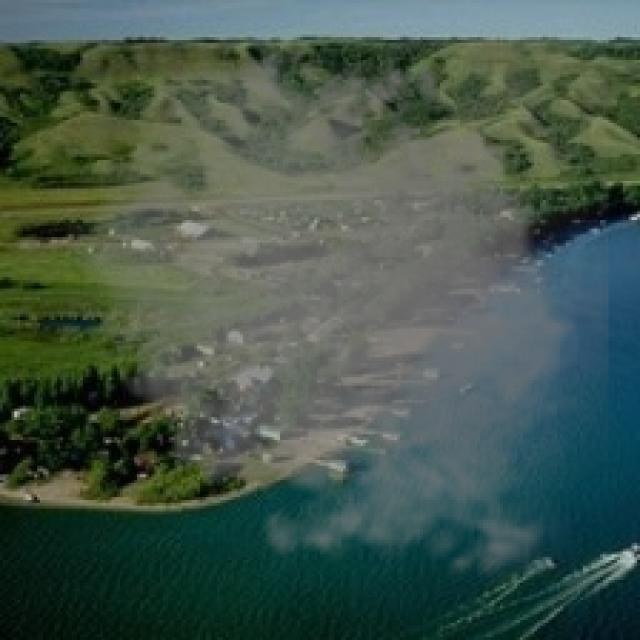Smoke: (46, 37, 608, 592)
